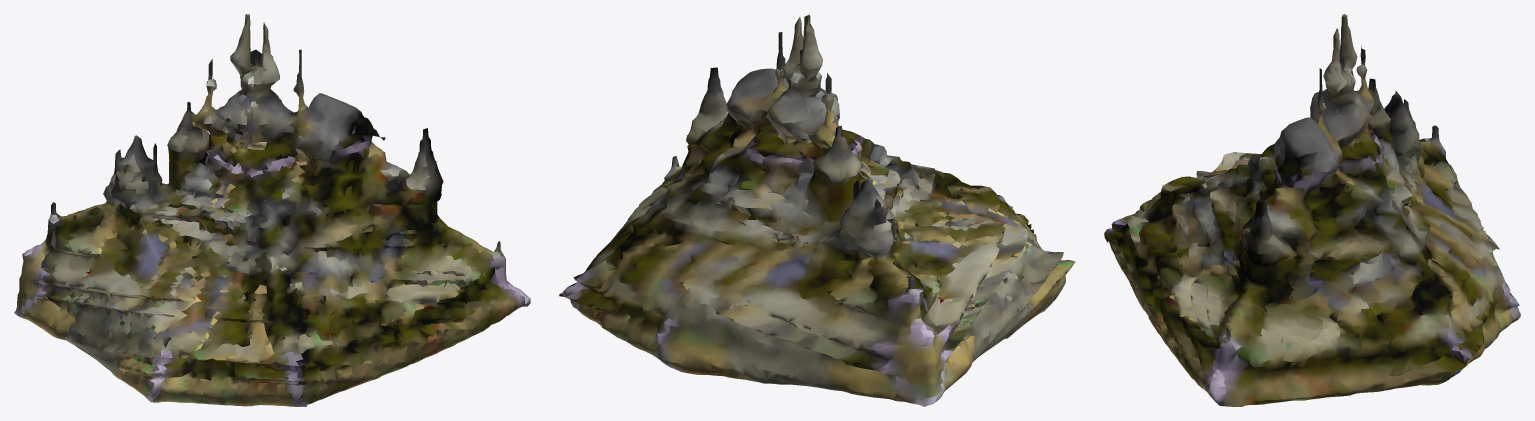
The model's file is transylvania_fortress.glb.
3 views of the same model, side by side, from view 1: azimuth 30°, elevation 25°; view 2: azimuth 150°, elevation 25°; view 3: azimuth 270°, elevation 25° (orthographic). The views are drawn at different scales.
Visible parts, largest first — view 1: transylvania_fortress; view 2: transylvania_fortress; view 3: transylvania_fortress.
Part boxes in pixels (x1,y1,x2,y2): transylvania_fortress: (14, 14, 530, 406); transylvania_fortress: (559, 14, 1075, 406); transylvania_fortress: (1104, 14, 1520, 406).
Size of what is drawn, in the model's own units: 1.95 by 1.4 by 1.82.
